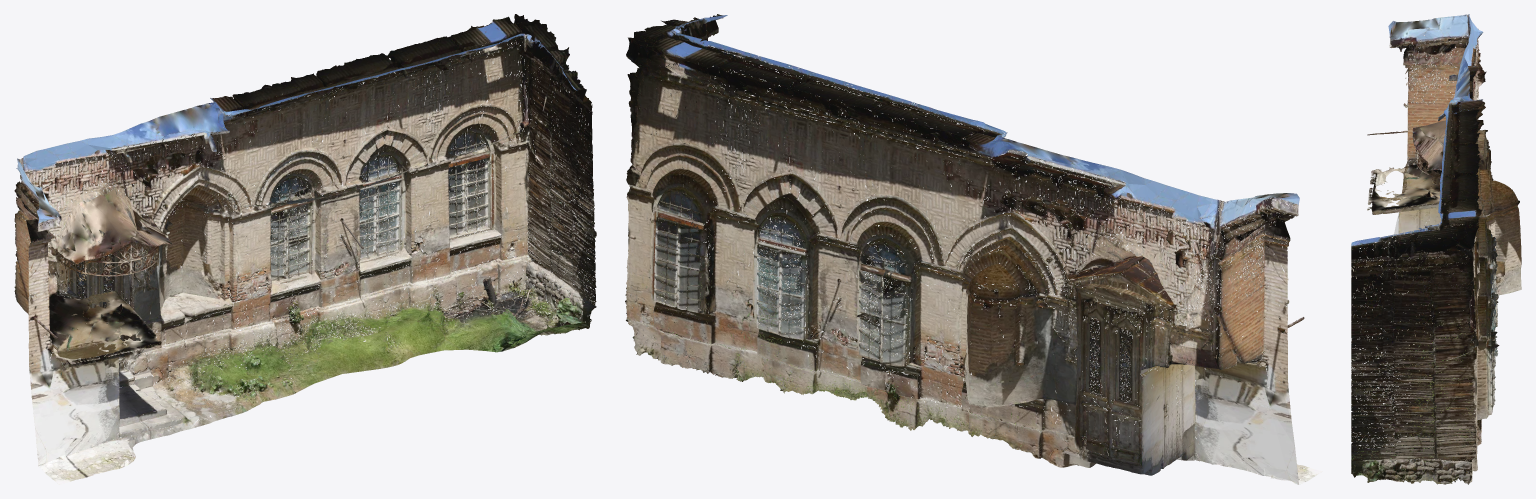
The model's file is preview.glb.
The picture shows the model from 3 angles, left to right: view 1: azimuth 30°, elevation 25°; view 2: azimuth 150°, elevation 25°; view 3: azimuth 270°, elevation 25°; orthographic projection. The views are drawn at different scales.
Visible parts, largest first — view 1: Kond_Hammam_Kond_Hammam_u1_v1_0, Kond_Hammam_Kond_Hammam_u2_v1_0; view 2: Kond_Hammam_Kond_Hammam_u1_v1_0, Kond_Hammam_Kond_Hammam_u2_v1_0; view 3: Kond_Hammam_Kond_Hammam_u1_v1_0, Kond_Hammam_Kond_Hammam_u2_v1_0.
Boxes of the visible parts, box(x1,y1,x2,y2) form: Kond_Hammam_Kond_Hammam_u1_v1_0: box(14, 14, 596, 484); Kond_Hammam_Kond_Hammam_u2_v1_0: box(14, 14, 596, 479); Kond_Hammam_Kond_Hammam_u1_v1_0: box(625, 14, 1322, 484); Kond_Hammam_Kond_Hammam_u2_v1_0: box(625, 17, 1307, 484); Kond_Hammam_Kond_Hammam_u1_v1_0: box(1351, 14, 1521, 484); Kond_Hammam_Kond_Hammam_u2_v1_0: box(1351, 14, 1520, 484).
Bounding box in the file's own units: 11.88 × 6.14 × 3.48.
Materials: 2 (2 with a texture image).
